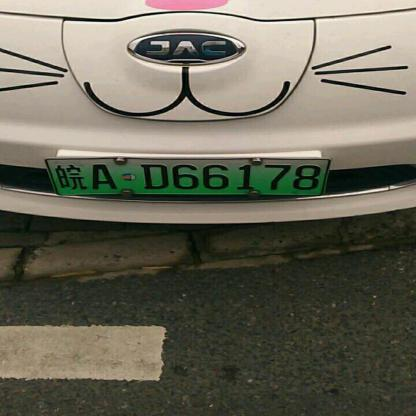lp: (46, 159, 332, 194)
